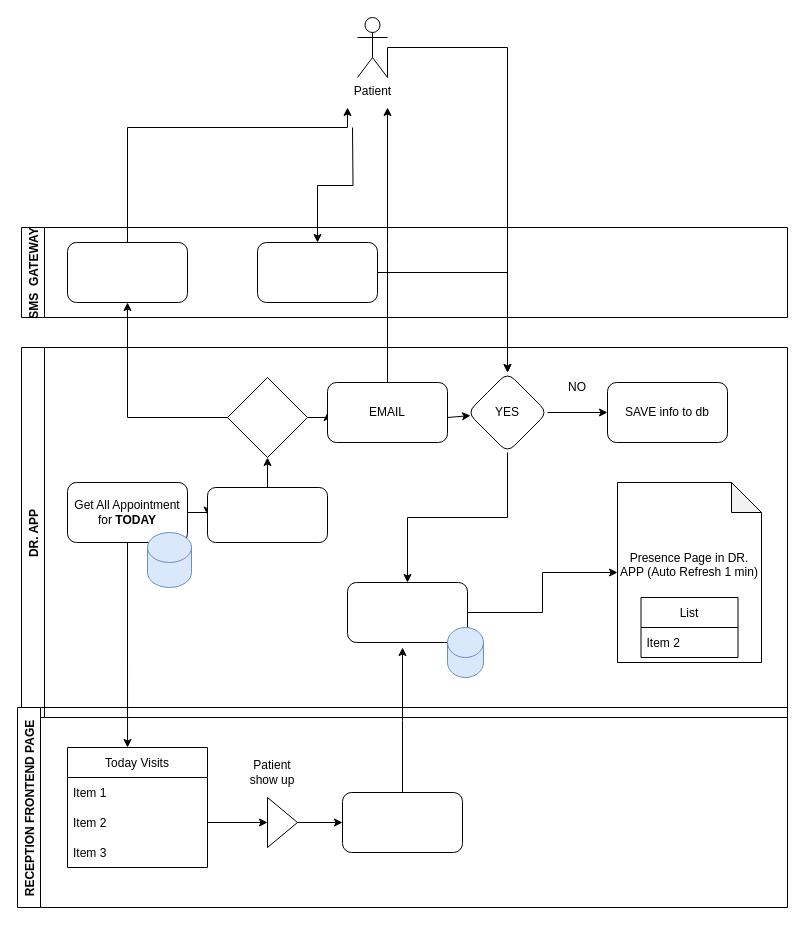
Image size: 805x925. Some labels were removed from this diagram. The shapes that lost their labels are listed below. From the top down, each one's centre as x and y in pixels, then its label:
At point 127,272: "SEND SMS".
At point 317,272: "RESPONSE".
At point 267,417: "SMS".
At point 267,514: "METHOD (SMS/EMAIL)".
At point 407,612: "Save time and add confirmation to DB".
At point 402,822: "Confirm Presence".
